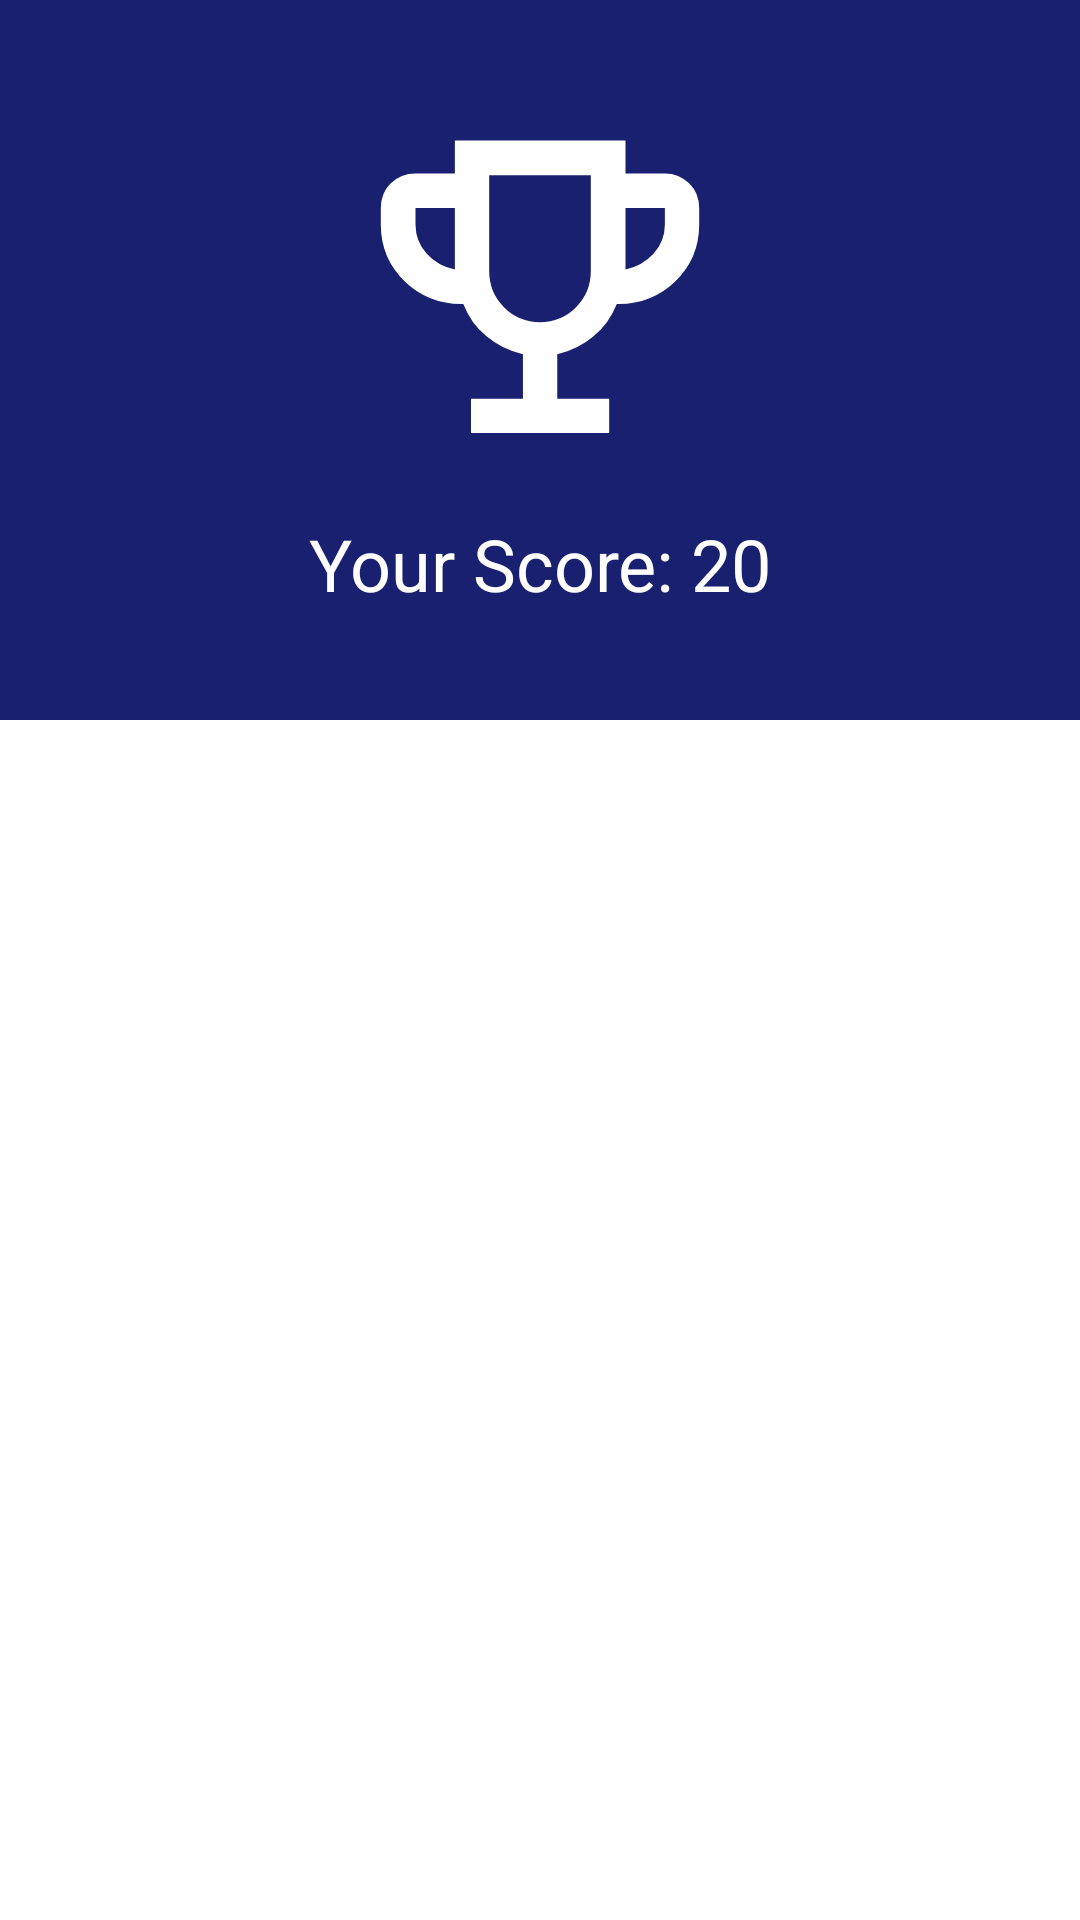

Where to tap for icons on this 1080px x 1920px app screen, as (x,y):
trphy: (540,286)
